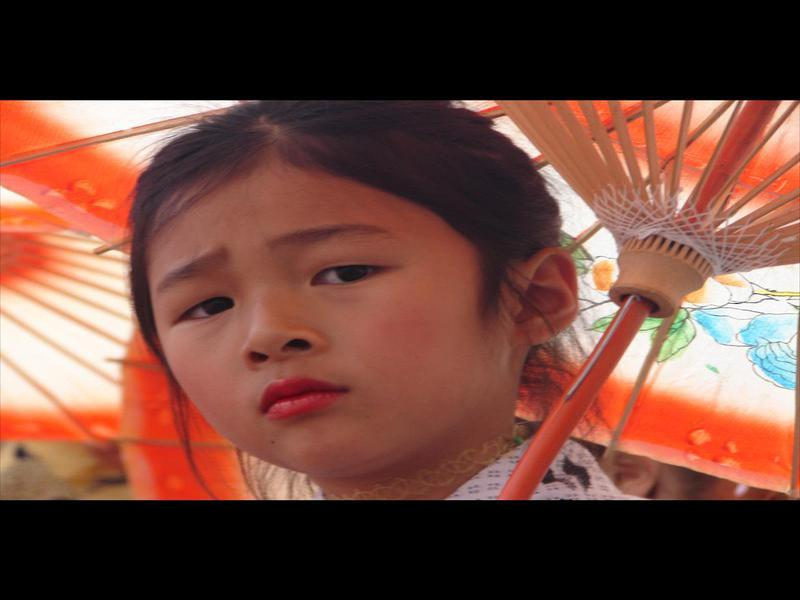person: (126, 100, 663, 501)
